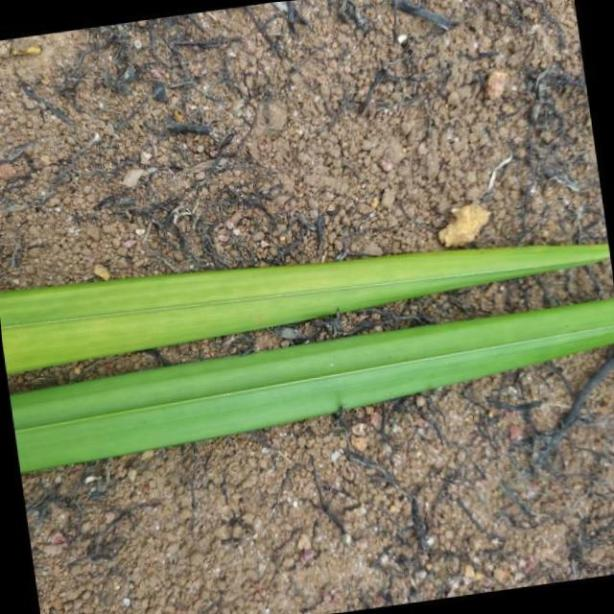nitrogen: (0, 239, 614, 476)
